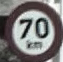Speed limit: (4, 3, 60, 57)
